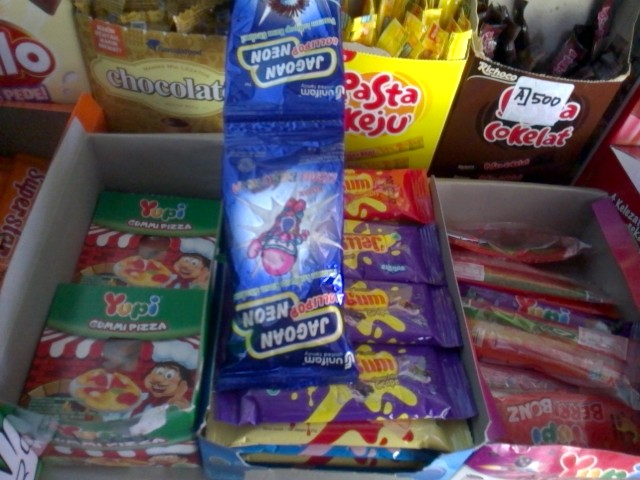jagoan neon: (215, 117, 358, 391), (221, 1, 343, 130)
